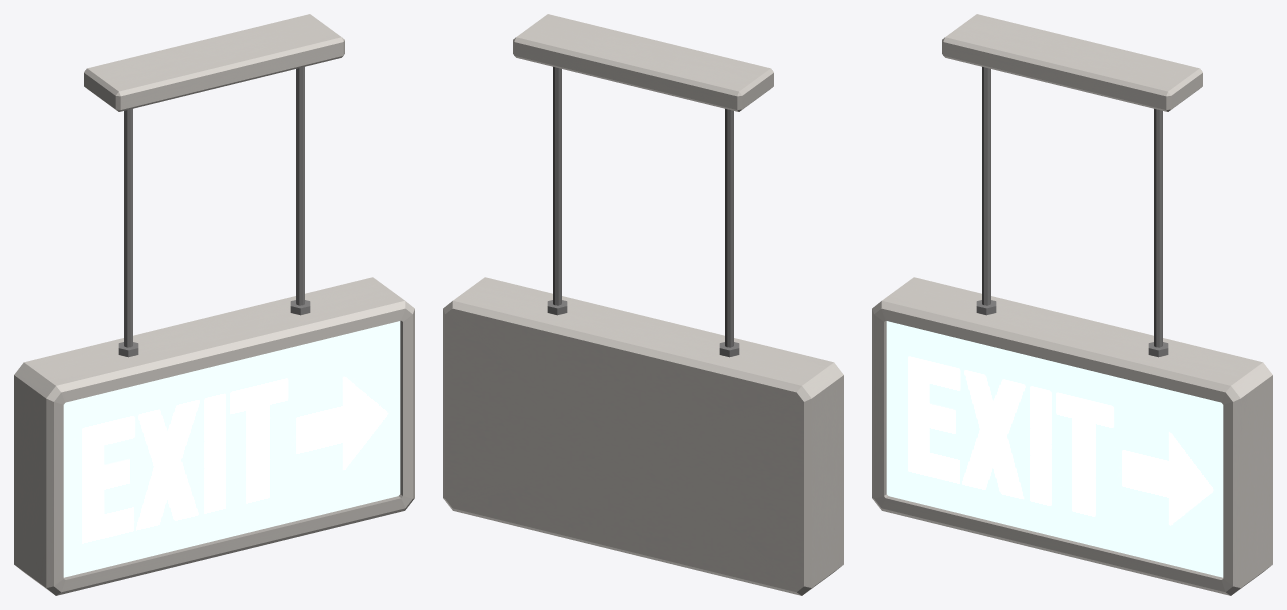
File: exit_sign.glb
3 views of the same model, side by side, from view 1: azimuth 30°, elevation 25°; view 2: azimuth 150°, elevation 25°; view 3: azimuth 330°, elevation 25° (orthographic).
Parts seen in each view (by area): view 1: core_exit_sign; view 2: core_exit_sign; view 3: core_exit_sign.
Part boxes in pixels (<box>): core_exit_sign: <box>14,14,414,595</box>; core_exit_sign: <box>443,14,843,595</box>; core_exit_sign: <box>872,14,1272,595</box>.
Bounding box in the file's own units: 0.45 × 0.57 × 0.08.
Materials: 2 (2 with a texture image).
